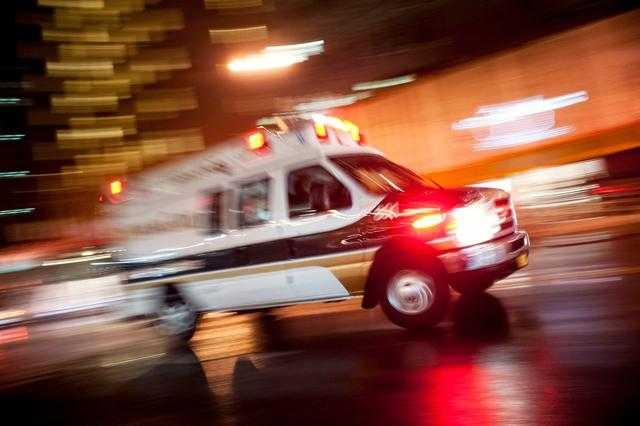Ambulance: (94, 98, 534, 346)
